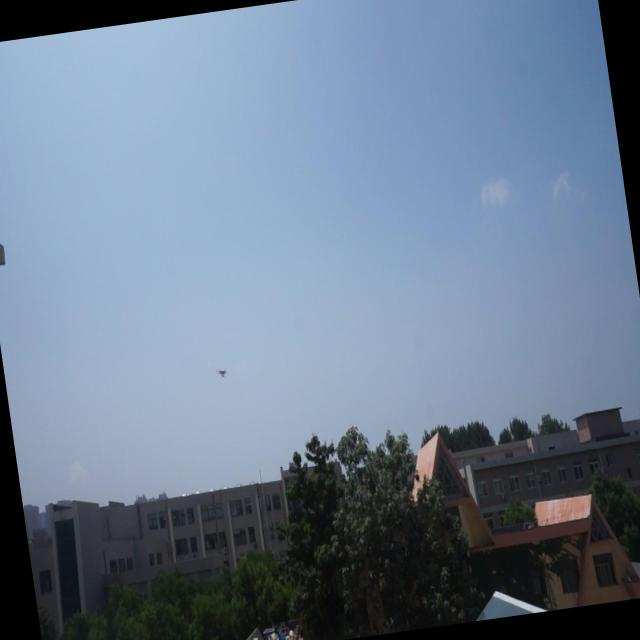drone: (216, 363, 228, 380)
